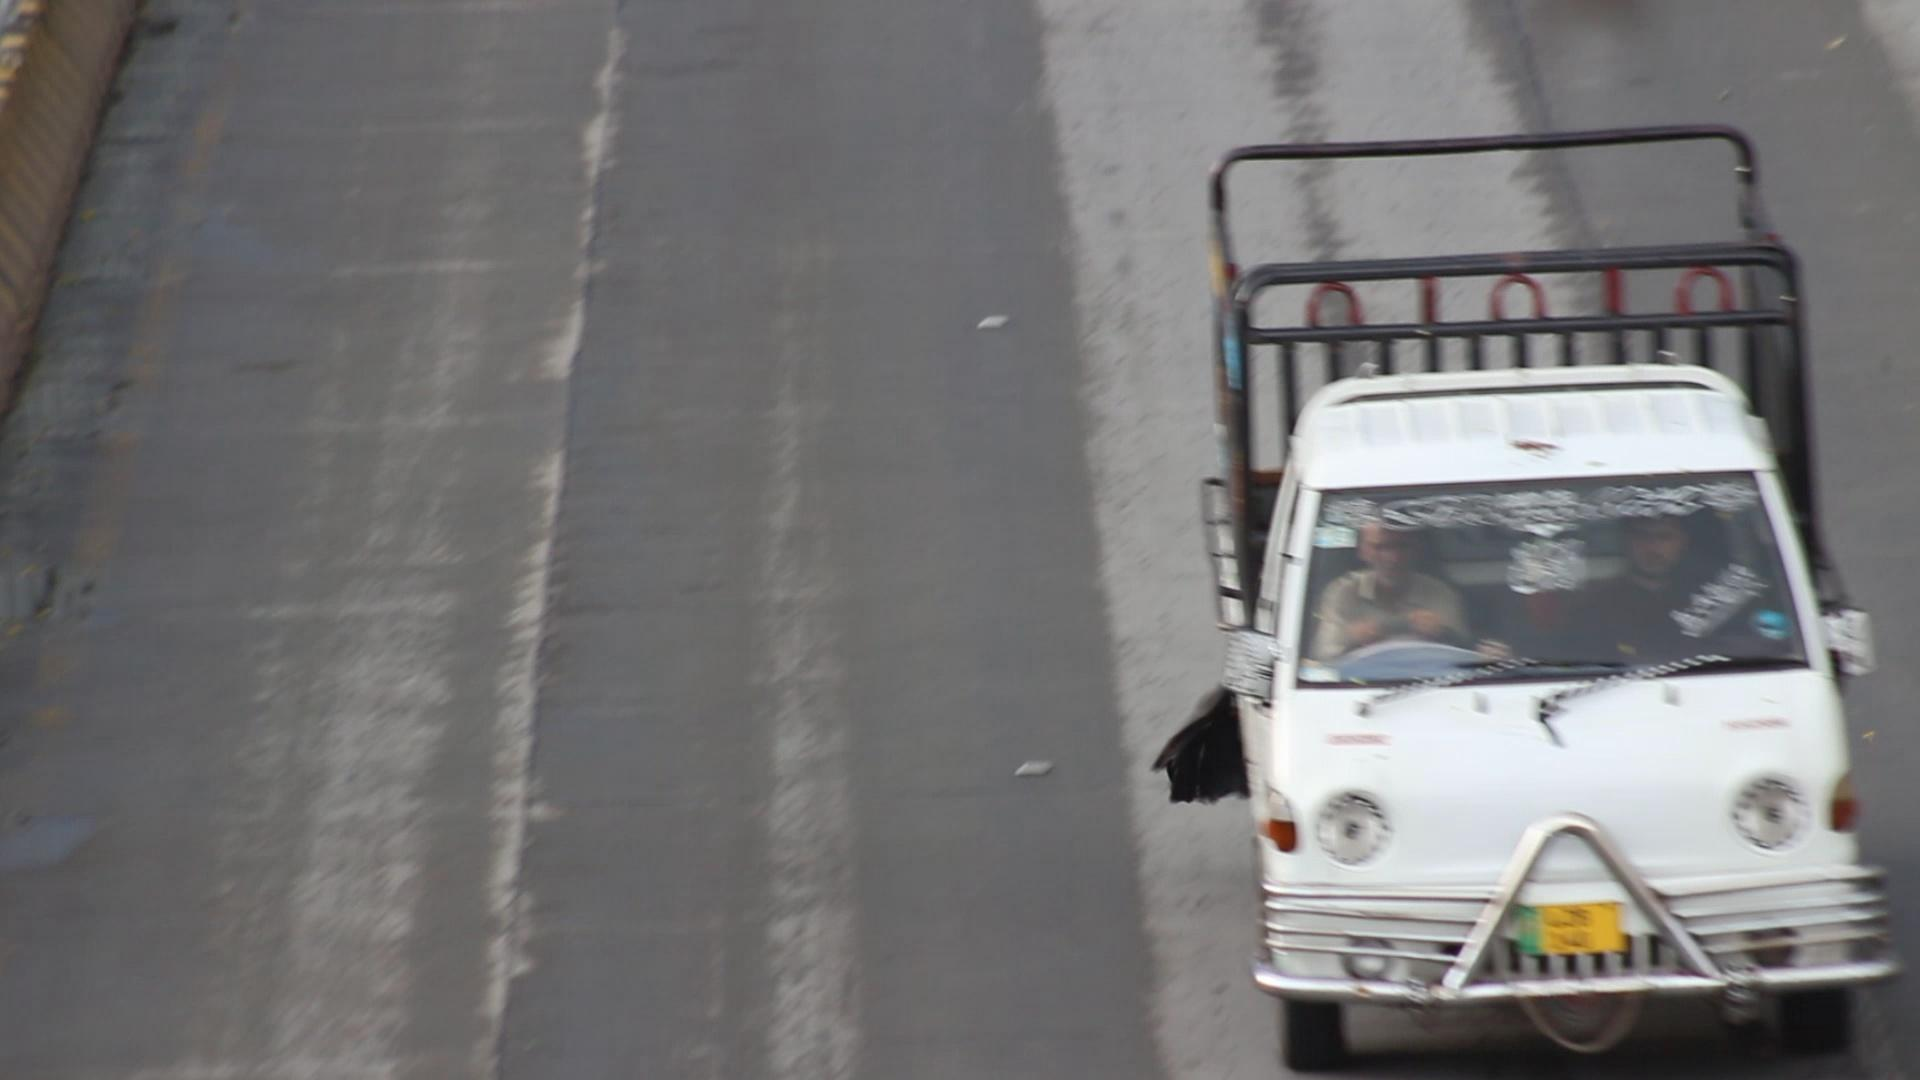windshield: (1291, 454, 1817, 700)
